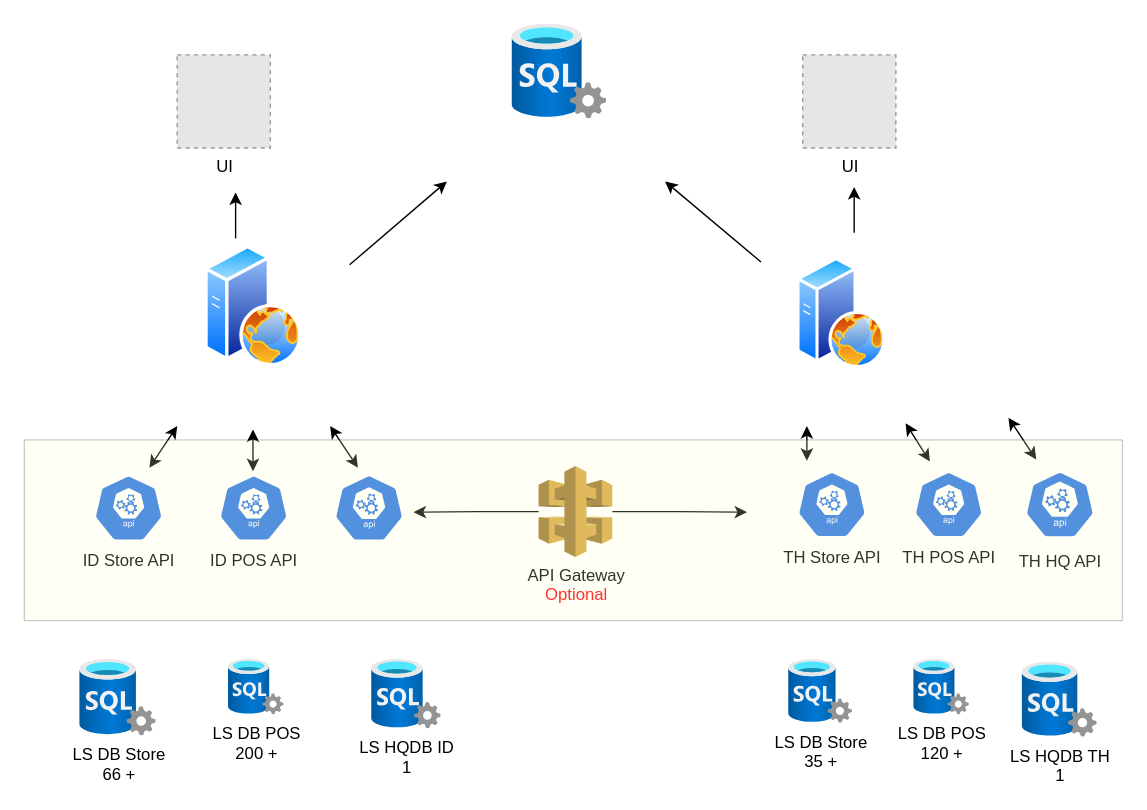
This 1147x810 diagram has some shape labels left out. Grey dashed boxes stand in for pictures. The centre of each missing label's shape, as x and y in pixels:
"10.61.63.18 Central Service DB" belongs at [559,71].
"ID HQ API" belongs at [368,507].
"Web Server ID 10.61.63.50" belongs at [253,305].
"Web Server TH 10.61.63.52" belongs at [840,312].
